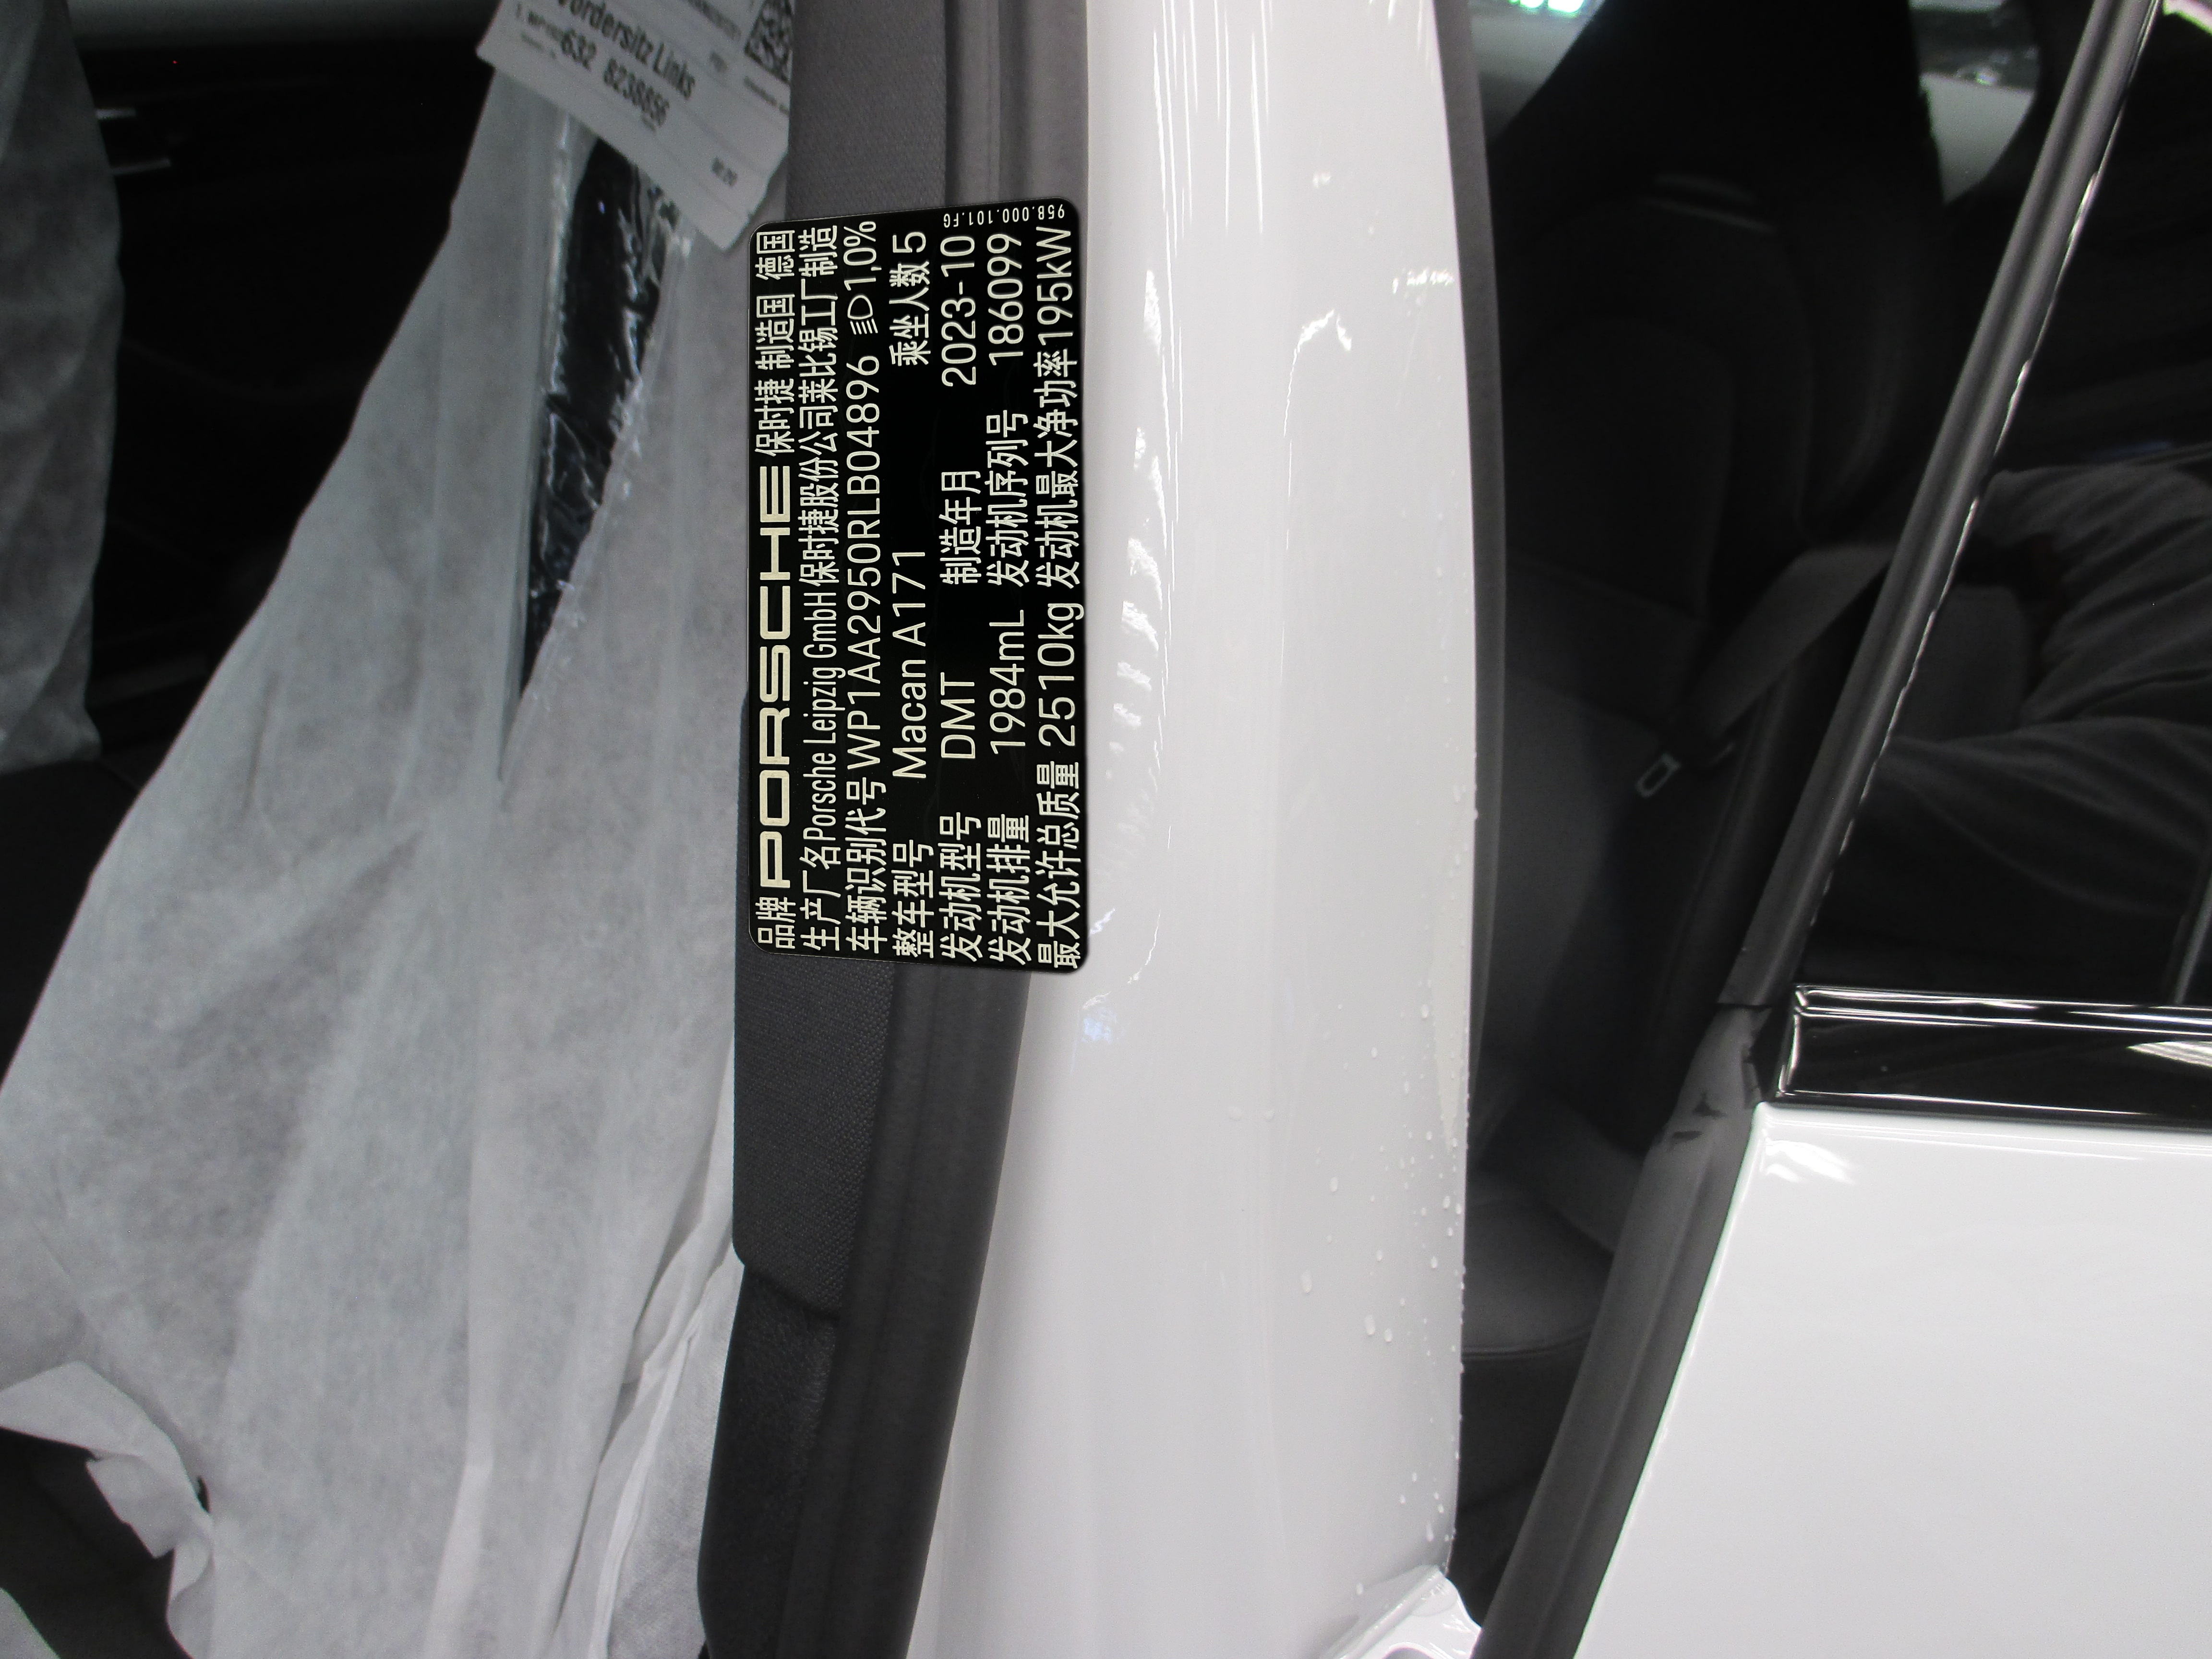Typlabel-China: (747, 197, 1089, 974)
